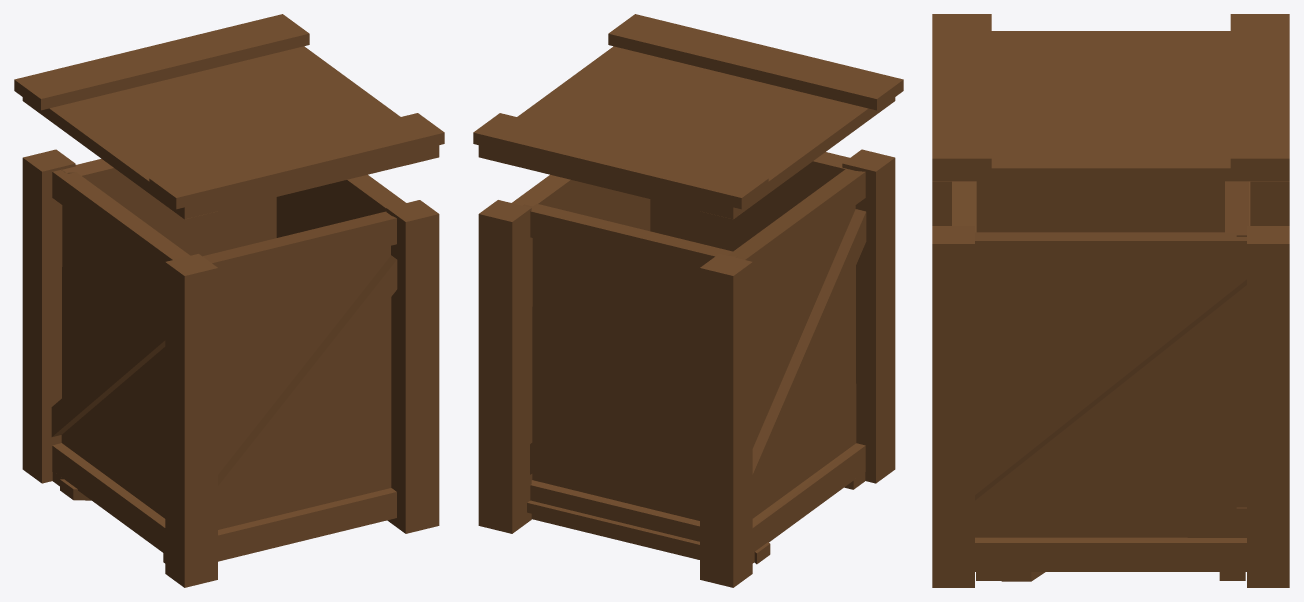
The model's file is woodenbox.fbx.
3 views of the same model, side by side, from view 1: azimuth 30°, elevation 25°; view 2: azimuth 150°, elevation 25°; view 3: azimuth 270°, elevation 25° (orthographic). The views are drawn at different scales.
Parts seen in each view (by area): view 1: Plane.002, Plane.001; view 2: Plane.002, Plane.001; view 3: Plane.002, Plane.001.
Part boxes in pixels (x1,y1,x2,y2): Plane.002: (22, 149, 439, 587); Plane.001: (14, 14, 444, 219); Plane.002: (478, 149, 895, 587); Plane.001: (473, 14, 903, 219); Plane.002: (932, 181, 1289, 587); Plane.001: (932, 14, 1289, 181).
Bounding box in the file's own units: 192 × 267 × 200.
